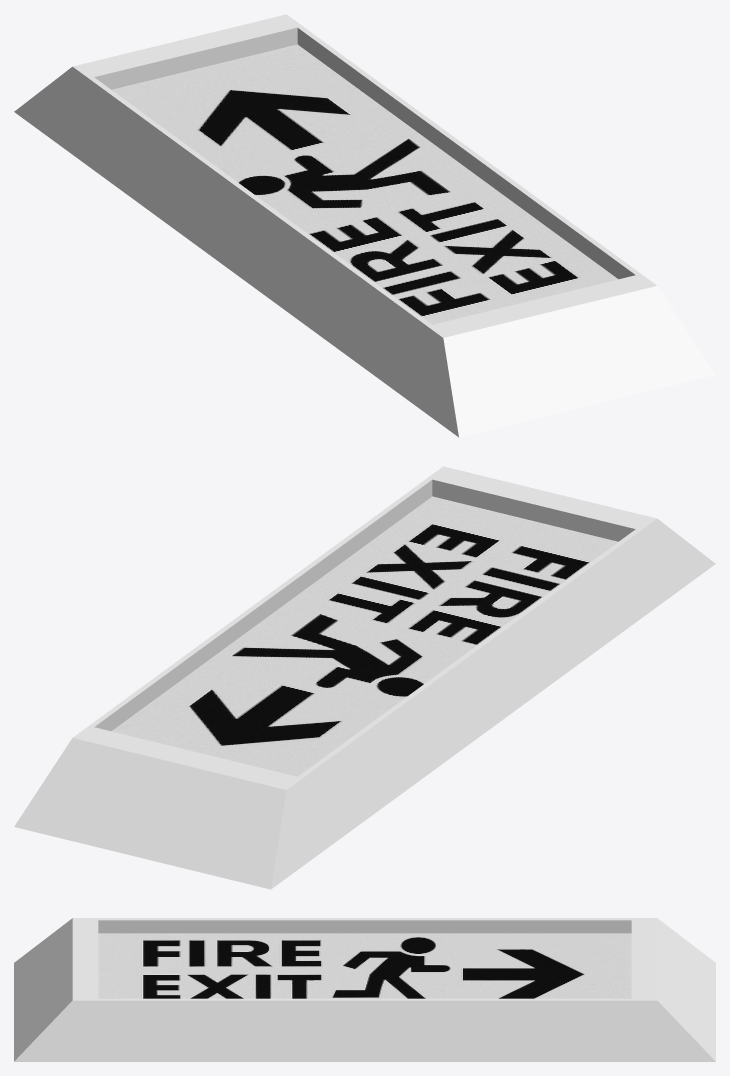
File: sign_exit.obj
The picture shows the model from 3 angles, top to bottom: view 1: azimuth 30°, elevation 25°; view 2: azimuth 150°, elevation 25°; view 3: azimuth 270°, elevation 25°; orthographic projection. The views are drawn at different scales.
Parts seen in each view (by area): view 1: sign_exit; view 2: sign_exit; view 3: sign_exit.
Part boxes in pixels (<box>): sign_exit: <box>14,14,715,437</box>; sign_exit: <box>14,466,715,889</box>; sign_exit: <box>14,918,715,1061</box>.
Bounding box in the file's own units: 0.12 × 0.03 × 0.36.
Materials: 2 (2 with a texture image).
